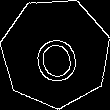O_N: (28, 22, 83, 84)
